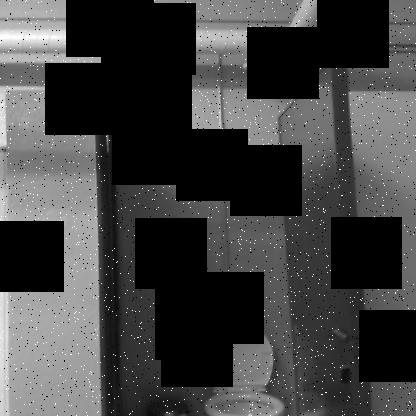Porte: (94, 58, 375, 416)
